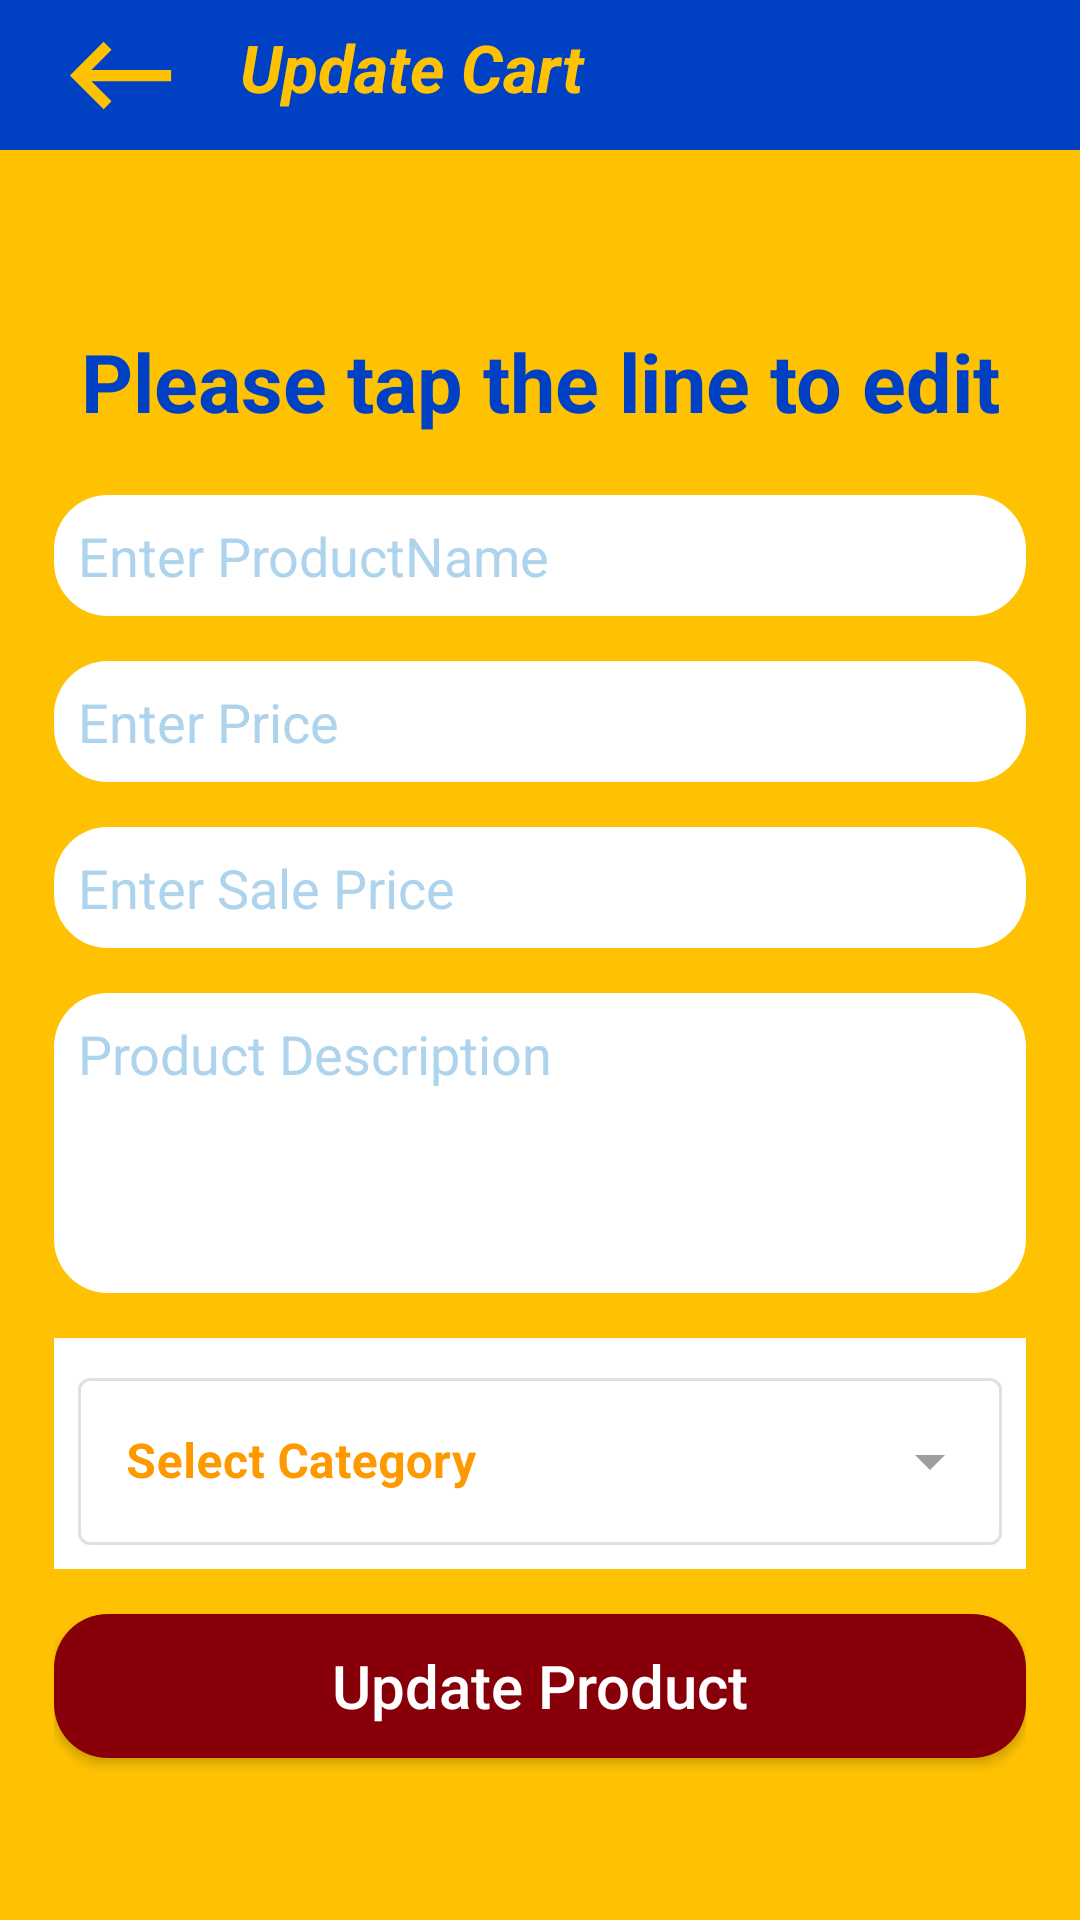

Point at icon controls on the screen. Image size 1080w x 1920h, points as (x,y).
keyboard backspace: (121,75)
